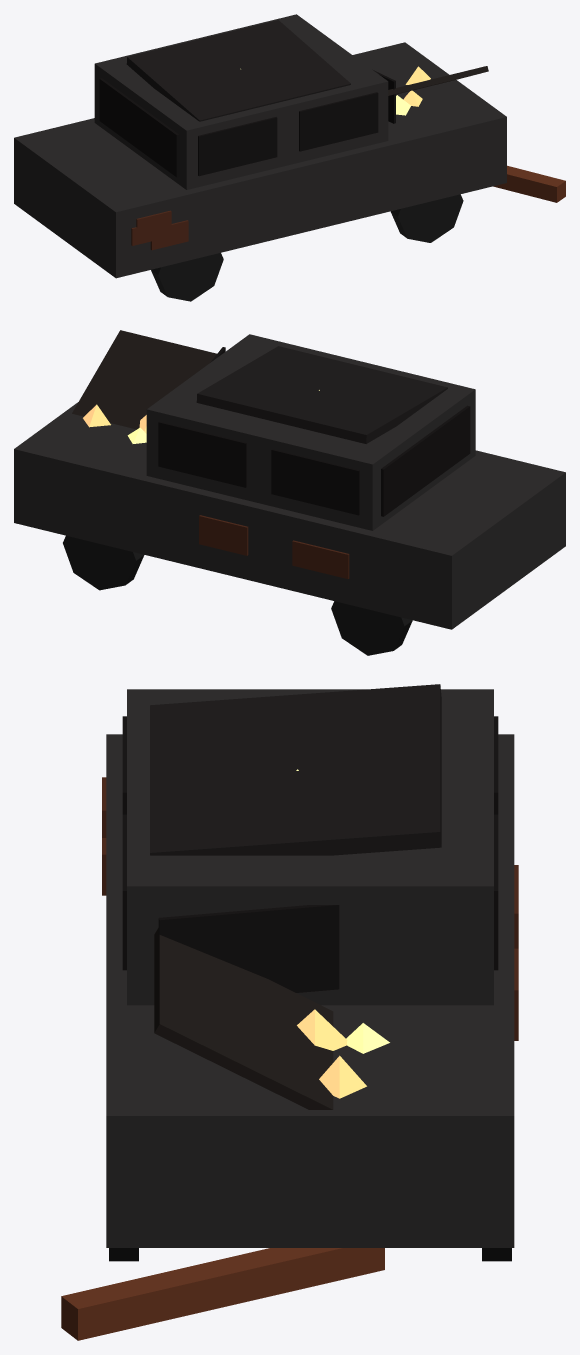
The model's file is car_burning.glb.
3 renders of one model, top to bottom at view 1: azimuth 30°, elevation 25°; view 2: azimuth 150°, elevation 25°; view 3: azimuth 270°, elevation 25°, orthographic. The views are drawn at different scales.
Parts seen in each view (by area): view 1: car_burning2; view 2: car_burning2; view 3: car_burning2.
Boxes of the visible parts, <box> form: car_burning2: <box>14,14,565,301</box>; car_burning2: <box>14,330,565,655</box>; car_burning2: <box>61,684,518,1340</box>.
Bounding box in the file's own units: 3.51 × 1.36 × 1.57.
